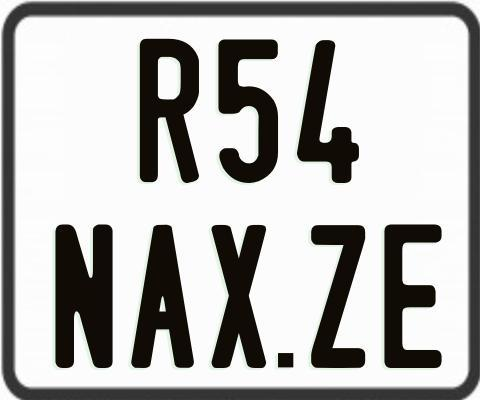4: (295, 40, 358, 189)
5: (218, 39, 278, 185)
A: (128, 224, 197, 372)
E: (382, 224, 440, 373)
N: (53, 224, 112, 369)
R: (139, 37, 202, 186)
X: (210, 223, 270, 372)
Z: (311, 224, 365, 367)
